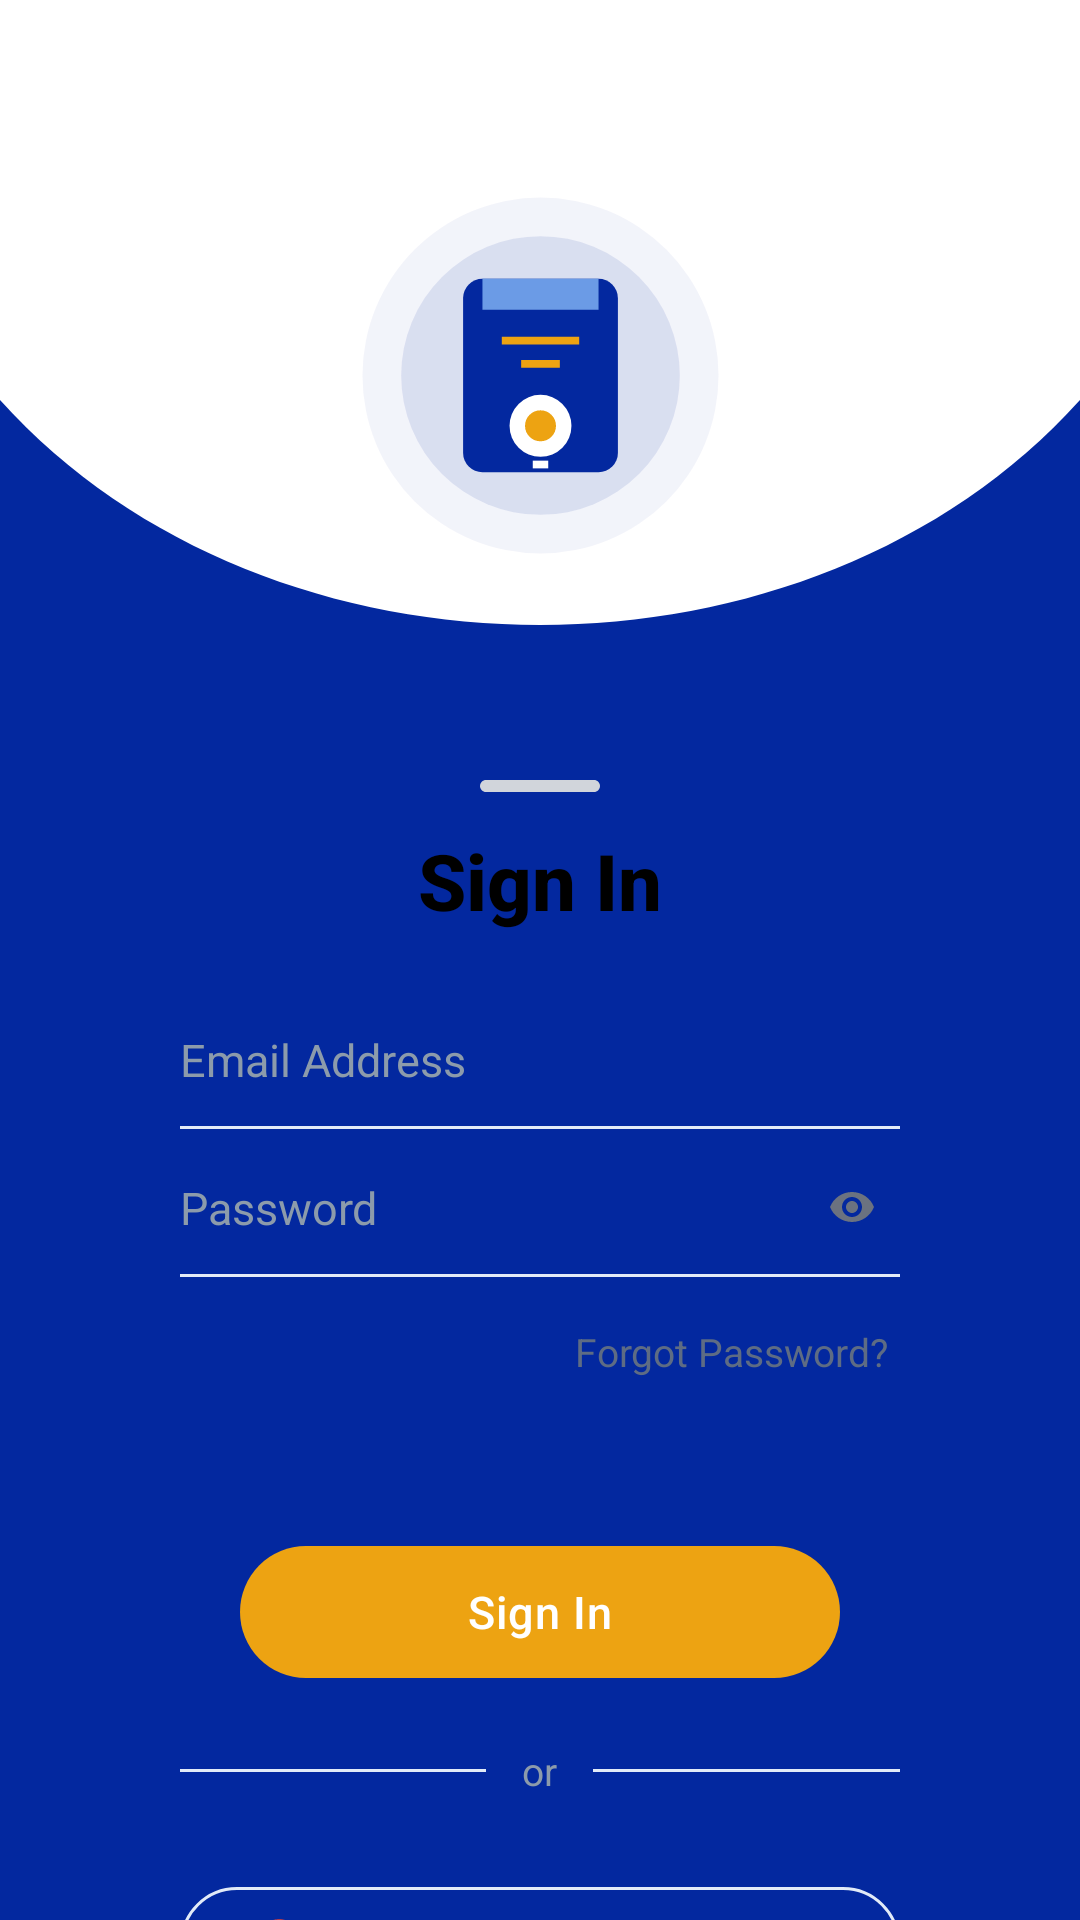

Where to tap for icons on this 1080 x 1920 app screen, as (x=x, y=y):
auth login: (x=540, y=375)
